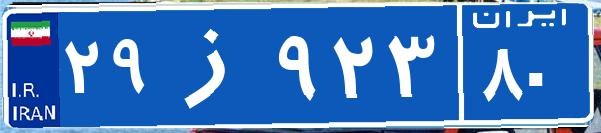0: (525, 38, 570, 115)
2: (330, 28, 385, 110), (57, 26, 110, 107)
3: (385, 28, 445, 110)
8: (475, 38, 525, 113)
9: (273, 28, 330, 110), (110, 28, 158, 105)
ز: (158, 15, 273, 115)
